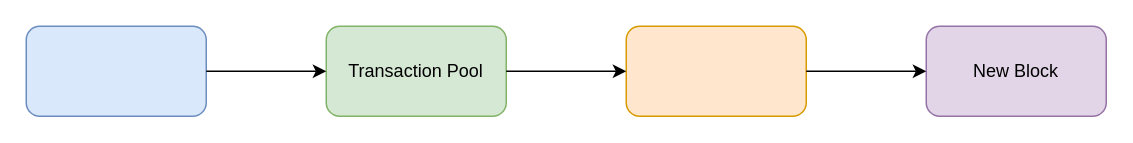
This 1133x143 diagram has some shape labels left out. The centre of each missing label's shape, as x and y in pixels:
Mining Node: (x=715, y=70)
New Transactions: (x=115, y=70)
